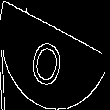O_N: (35, 23, 75, 87)
